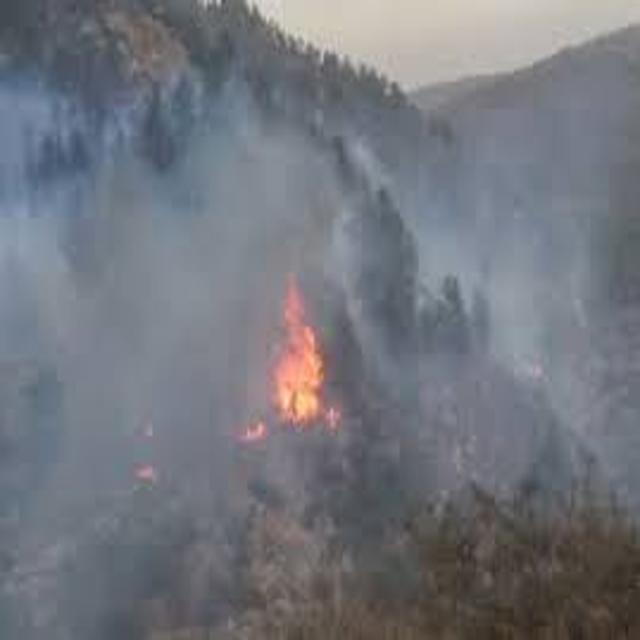Fire: (262, 278, 344, 434)
Smoke: (22, 188, 250, 422), (417, 186, 598, 399), (28, 441, 168, 638), (0, 78, 244, 186), (336, 124, 416, 436), (177, 431, 280, 564), (252, 126, 334, 272)
